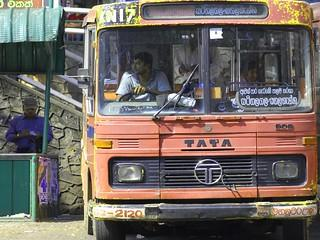bus: (73, 1, 319, 238)
